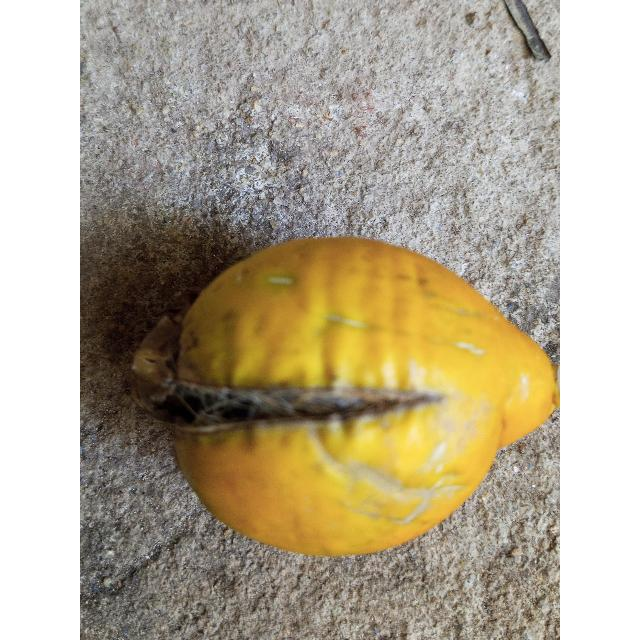damaged: (130, 237, 560, 561)
